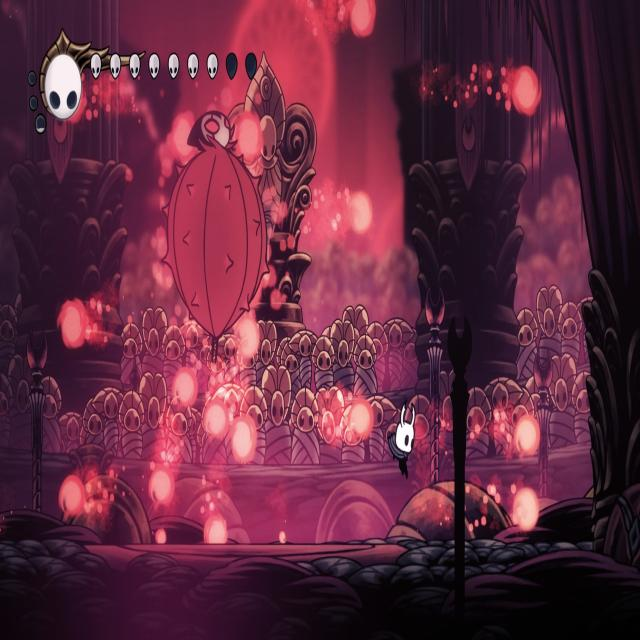Player: (385, 398, 419, 484)
Pufferfish: (158, 107, 274, 368)
Tiny Fireballs: (512, 66, 542, 118), (236, 113, 264, 165), (59, 301, 87, 351), (59, 474, 85, 522), (170, 113, 194, 165), (231, 417, 257, 464), (513, 486, 539, 532), (236, 314, 261, 360), (150, 466, 176, 507), (516, 414, 541, 456), (349, 192, 372, 236), (204, 400, 229, 440), (349, 0, 375, 37), (173, 367, 197, 407), (349, 399, 372, 440), (204, 514, 227, 544)
